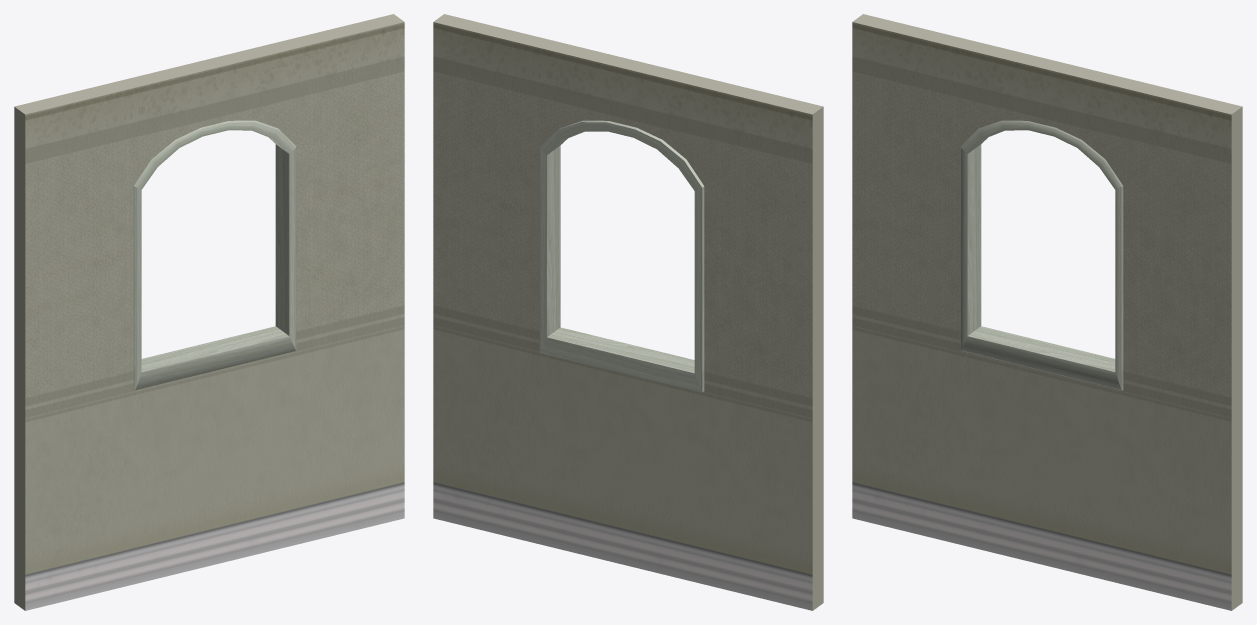
The model's file is Mod_Wall_ArchWindow.fbx.
3 views of the same model, side by side, from view 1: azimuth 30°, elevation 25°; view 2: azimuth 150°, elevation 25°; view 3: azimuth 330°, elevation 25° (orthographic).
Visible parts, largest first — view 1: Mod_Wall_ArchWindow; view 2: Mod_Wall_ArchWindow; view 3: Mod_Wall_ArchWindow.
Part boxes in pixels (x1,y1,x2,y2): Mod_Wall_ArchWindow: (14, 14, 404, 610); Mod_Wall_ArchWindow: (433, 14, 823, 610); Mod_Wall_ArchWindow: (852, 14, 1242, 610).
Bounding box in the file's own units: 200 × 250 × 12.71.
